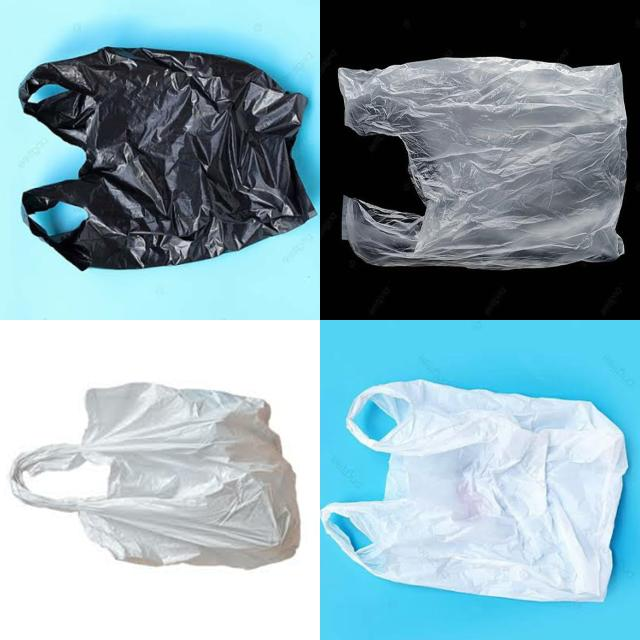Single-layer Plastic: (322, 380, 628, 601), (19, 48, 316, 270), (339, 58, 626, 270), (11, 382, 300, 569)
